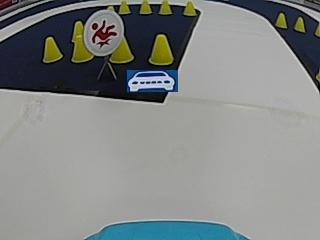cone: (148, 33, 173, 66), (110, 39, 135, 64), (71, 37, 92, 63), (42, 36, 61, 63), (274, 11, 287, 29), (183, 0, 196, 16), (159, 0, 172, 15), (139, 0, 152, 15), (294, 16, 305, 33), (118, 0, 130, 15)
tumble: (88, 14, 120, 49)
